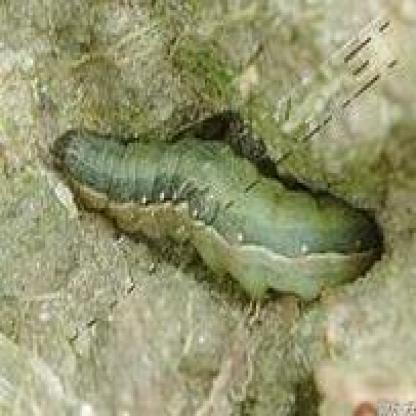armyworm: (46, 106, 378, 300)
